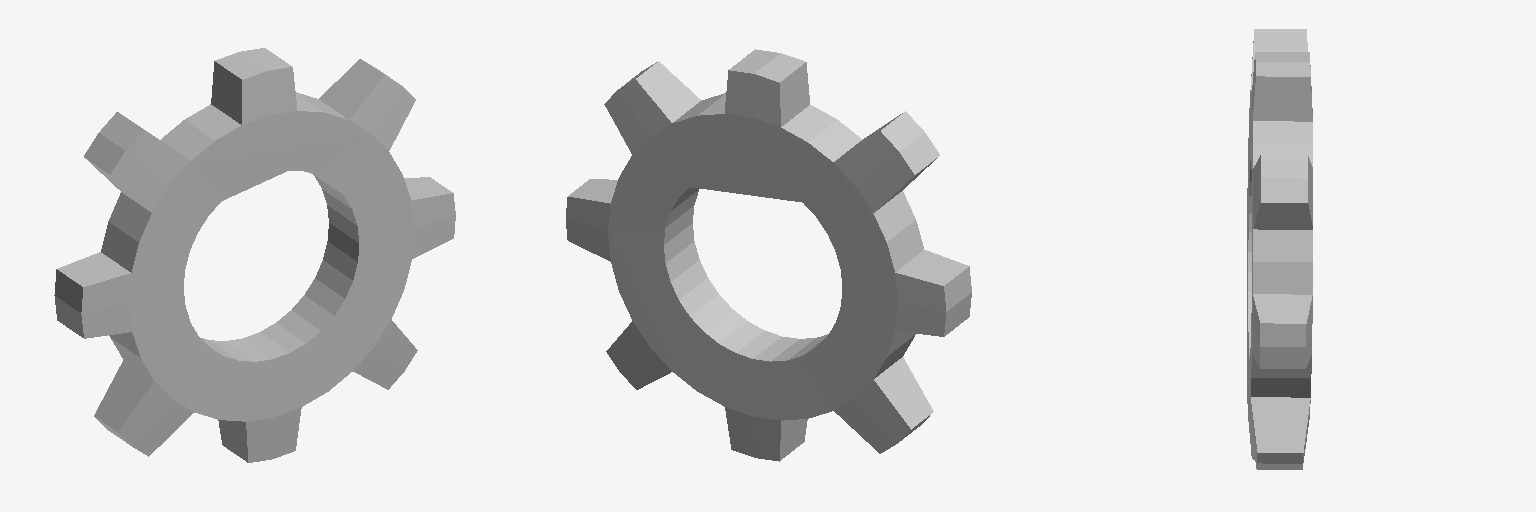
Rendered from Gear WIP.obj.
The picture shows the model from 3 angles: view 1: azimuth 30°, elevation 25°; view 2: azimuth 150°, elevation 25°; view 3: azimuth 270°, elevation 25°; orthographic projection.
Parts seen in each view (by area): view 1: Torus; view 2: Torus; view 3: Torus.
Boxes of the visible parts, box(x1,y1,x2,y2) form: Torus: box(54, 48, 455, 462); Torus: box(566, 49, 971, 461); Torus: box(1247, 29, 1312, 469).
Size of the model in its own units: 2.64 by 2.58 by 0.4025.